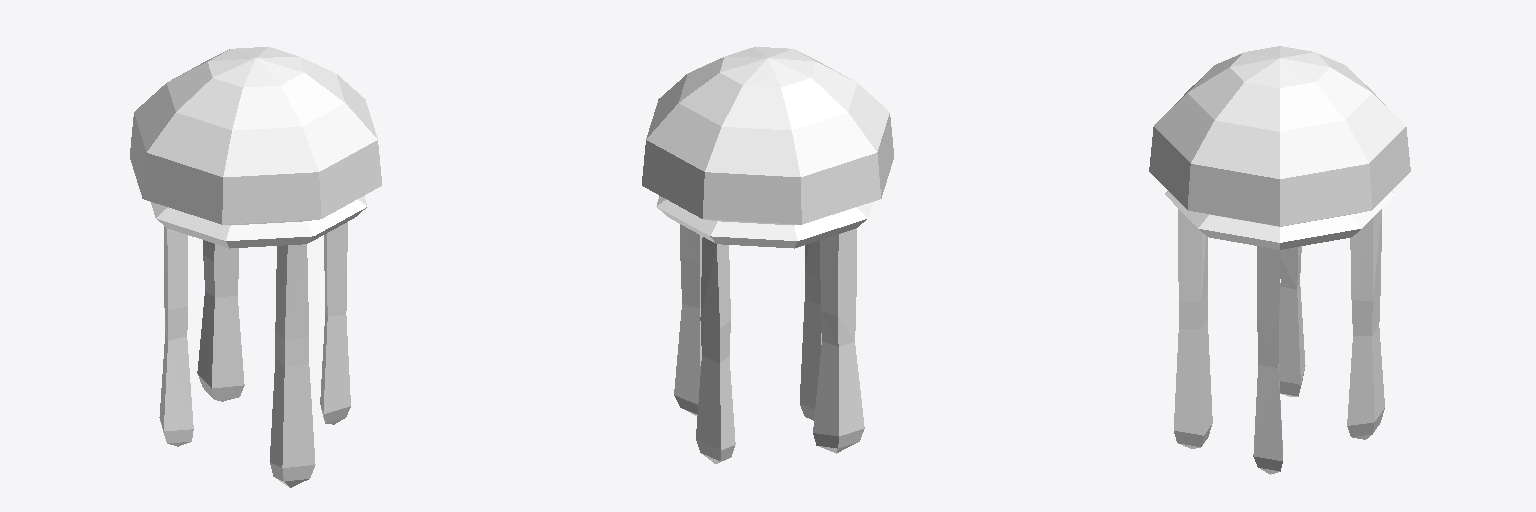
File: jellyfish_pink_bind.obj
3 renders of one model, left to right at view 1: azimuth 30°, elevation 25°; view 2: azimuth 150°, elevation 25°; view 3: azimuth 270°, elevation 25°, orthographic.
Visible parts, largest first — view 1: Material_#27; view 2: Material_#27; view 3: Material_#27.
Boxes of the visible parts, x1,y1,x2,y2 form: Material_#27: [130, 47, 381, 487]; Material_#27: [642, 47, 893, 463]; Material_#27: [1149, 46, 1410, 474].
Size of the model in its own units: 5.52 by 9.2 by 5.52.